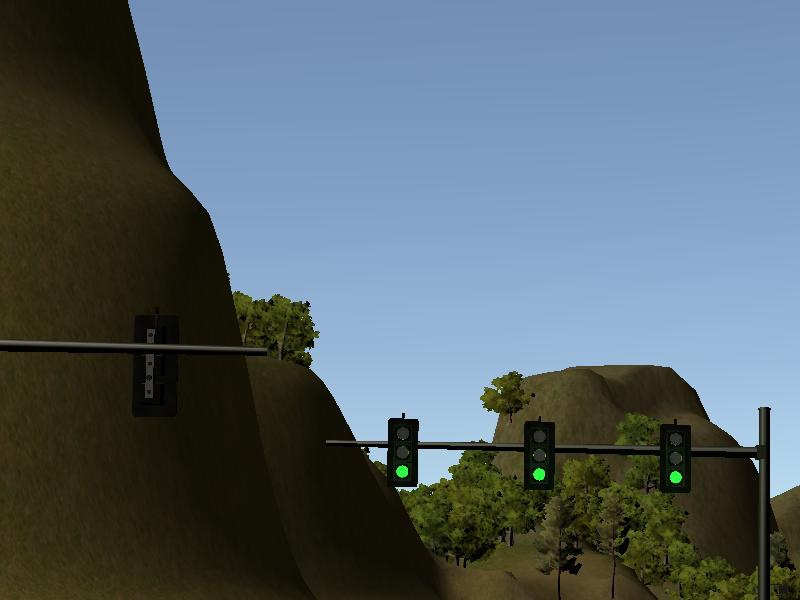Green: (525, 421, 555, 490), (661, 423, 689, 493), (390, 419, 418, 487)
